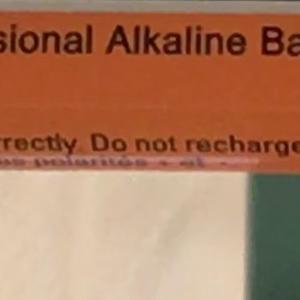keyword: (95, 14, 151, 65)
